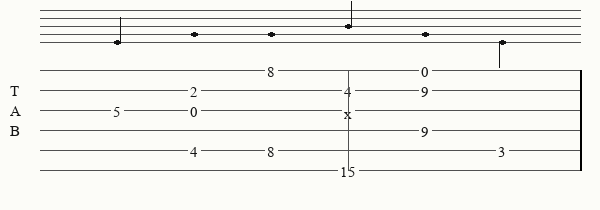0: (190, 103, 202, 117), (421, 63, 433, 77)
15: (340, 163, 360, 177)
2: (190, 83, 202, 97)
3: (498, 143, 510, 157)
4: (190, 143, 202, 157), (344, 83, 356, 97)
5: (113, 103, 125, 117)
8: (267, 143, 279, 157), (267, 63, 279, 77)
9: (421, 123, 433, 137), (421, 83, 433, 97)
x: (344, 105, 356, 116)
